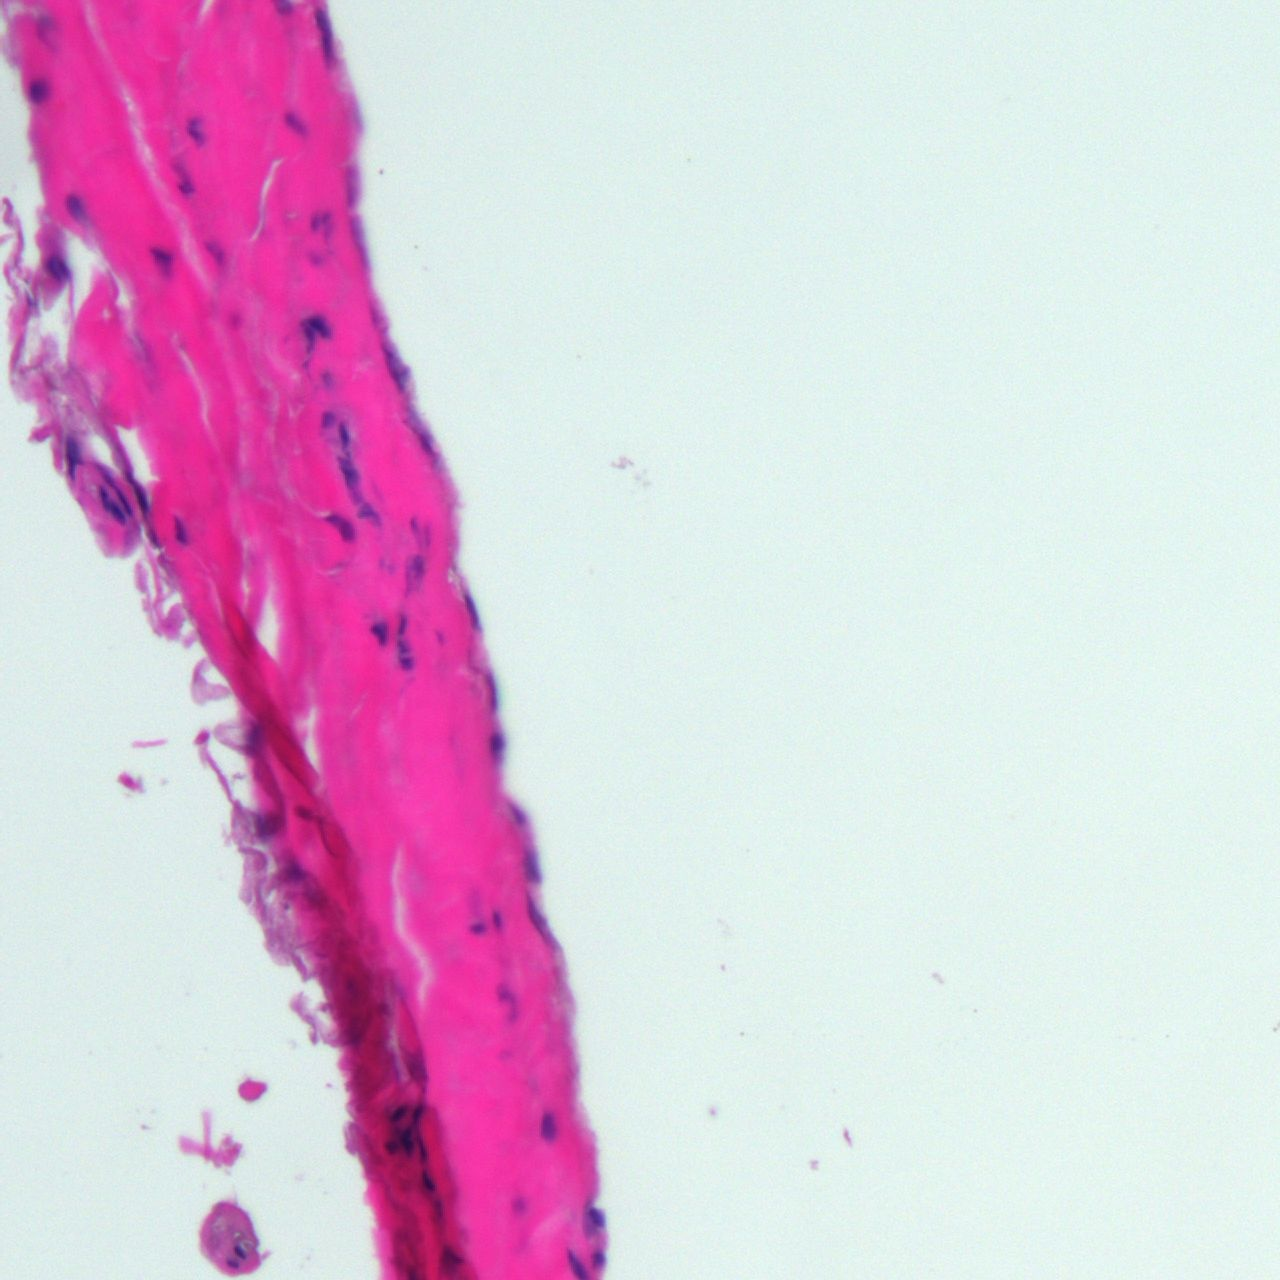nucleus-HE: (400, 406, 445, 469), (518, 890, 560, 949), (376, 340, 418, 396), (95, 457, 135, 515), (309, 6, 343, 67), (93, 484, 129, 529), (343, 215, 374, 267), (121, 470, 155, 515), (573, 1200, 610, 1238), (166, 154, 195, 197), (181, 114, 210, 150), (45, 252, 75, 284), (459, 591, 483, 629), (324, 513, 354, 542), (282, 109, 309, 139), (308, 313, 335, 340), (504, 799, 530, 828), (520, 845, 542, 879), (338, 456, 360, 488), (406, 554, 424, 592), (345, 164, 360, 206), (438, 1244, 459, 1274), (64, 436, 79, 481), (152, 246, 173, 275), (286, 860, 309, 885), (396, 640, 415, 670), (485, 672, 499, 712), (489, 731, 506, 762), (28, 76, 47, 104), (369, 620, 388, 647), (64, 193, 84, 218), (540, 1111, 557, 1139), (204, 239, 222, 265), (173, 515, 188, 544), (302, 319, 314, 353), (388, 1102, 408, 1122), (356, 503, 377, 522), (250, 722, 264, 748), (422, 1170, 437, 1191), (339, 423, 350, 450), (293, 803, 312, 819), (321, 215, 332, 243), (233, 1242, 248, 1261), (401, 1129, 413, 1151), (321, 411, 335, 428), (470, 921, 486, 935), (417, 1137, 427, 1160), (309, 213, 321, 231), (411, 1104, 421, 1125), (397, 613, 406, 636), (309, 251, 324, 264), (492, 908, 501, 930), (384, 1141, 399, 1152), (226, 1257, 238, 1267), (593, 1251, 602, 1262)
